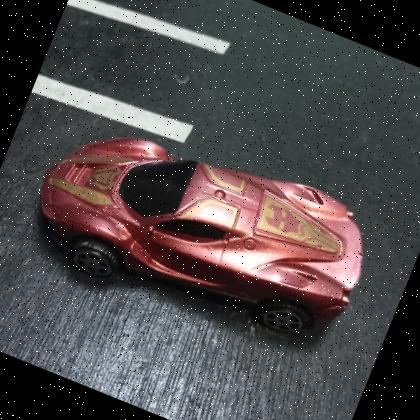Car: (13, 89, 386, 371)
